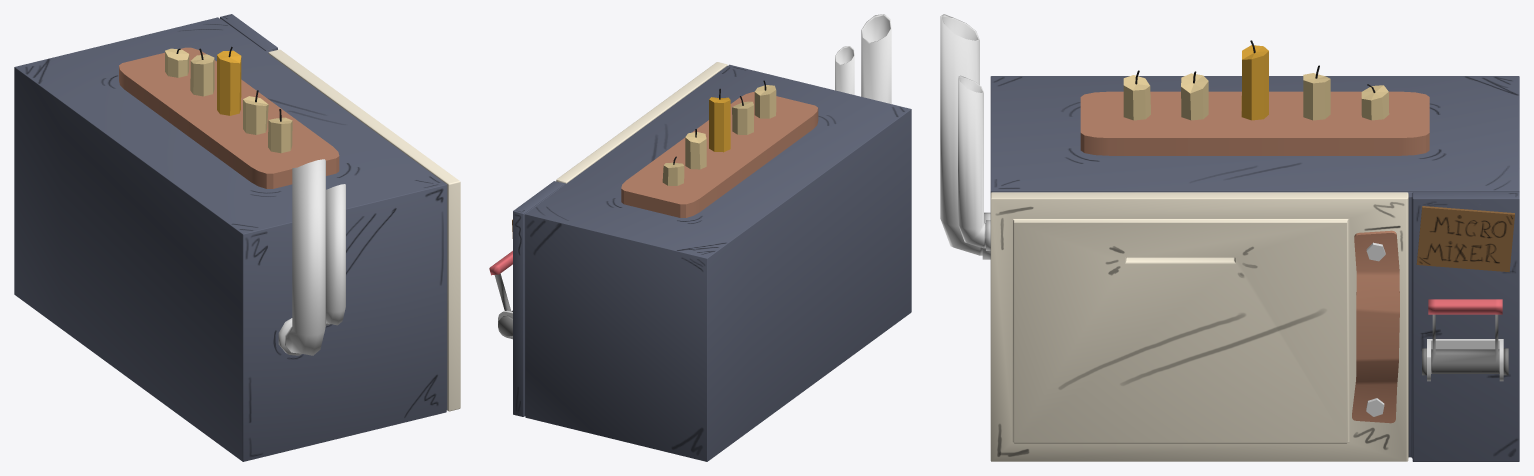
Rendered from microondas2.fbx.
The picture shows the model from 3 angles, left to right: view 1: azimuth 30°, elevation 25°; view 2: azimuth 150°, elevation 25°; view 3: azimuth 270°, elevation 25°; orthographic projection. The views are drawn at different scales.
Visible parts, largest first — view 1: Micro, Velas.001, Canos, Porta; view 2: Micro, Velas.001, Canos, Porta, Alavanca; view 3: Porta, Micro, Velas.001, Canos, Puxador, Placa, Alavanca, Dobradiça.
Boxes of the visible parts, x1=… form: Micro: x1=14, y1=14, x2=447, y2=461; Velas.001: x1=119, y1=46, x2=339, y2=188; Canos: x1=278, y1=159, x2=345, y2=355; Porta: x1=268, y1=49, x2=460, y2=411; Micro: x1=513, y1=64, x2=911, y2=461; Velas.001: x1=621, y1=80, x2=818, y2=217; Canos: x1=835, y1=14, x2=891, y2=103; Porta: x1=556, y1=62, x2=727, y2=183; Alavanca: x1=489, y1=251, x2=512, y2=336; Porta: x1=990, y1=192, x2=1408, y2=461; Micro: x1=990, y1=76, x2=1519, y2=461; Velas.001: x1=1080, y1=40, x2=1429, y2=155; Canos: x1=940, y1=14, x2=990, y2=259; Puxador: x1=1352, y1=230, x2=1399, y2=423; Placa: x1=1416, y1=206, x2=1514, y2=272; Alavanca: x1=1422, y1=299, x2=1508, y2=375; Dobradiça: x1=1427, y1=339, x2=1503, y2=381.
Bounding box in the file's own units: 231 × 270 × 399.
